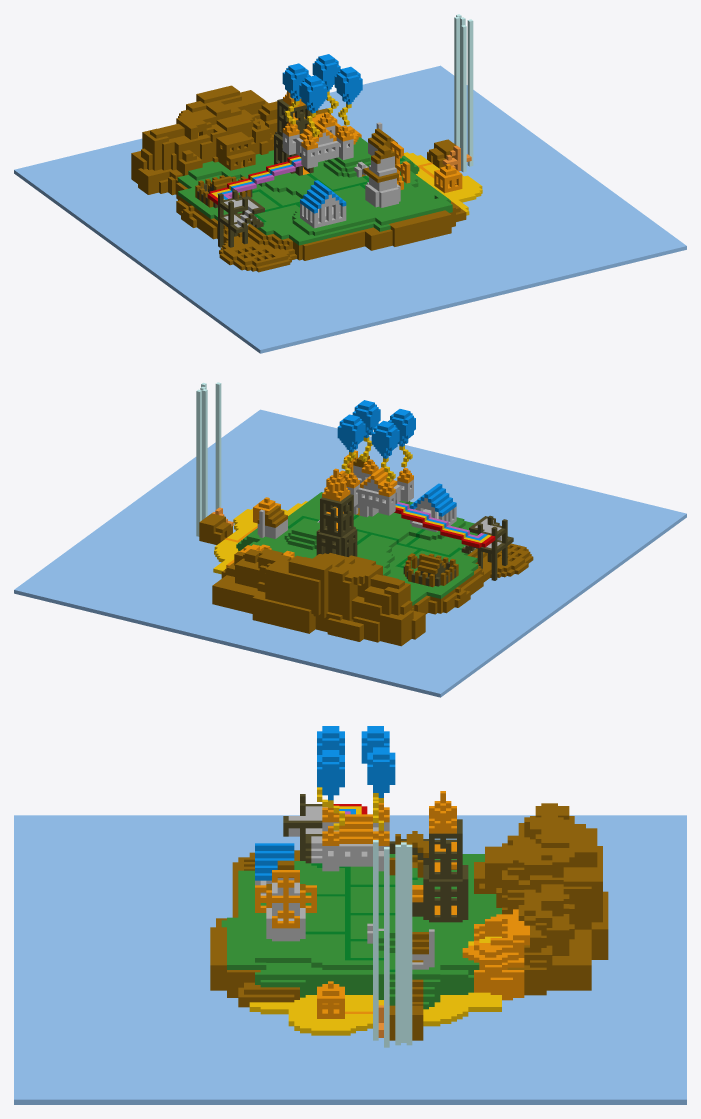
Rendered from worldmap.obj.
The picture shows the model from 3 angles, top to bottom: view 1: azimuth 30°, elevation 25°; view 2: azimuth 150°, elevation 25°; view 3: azimuth 270°, elevation 25°; orthographic projection. The views are drawn at different scales.
Size of the model in its own units: 12 by 4 by 12.
Materials: 1 (1 with a texture image).
